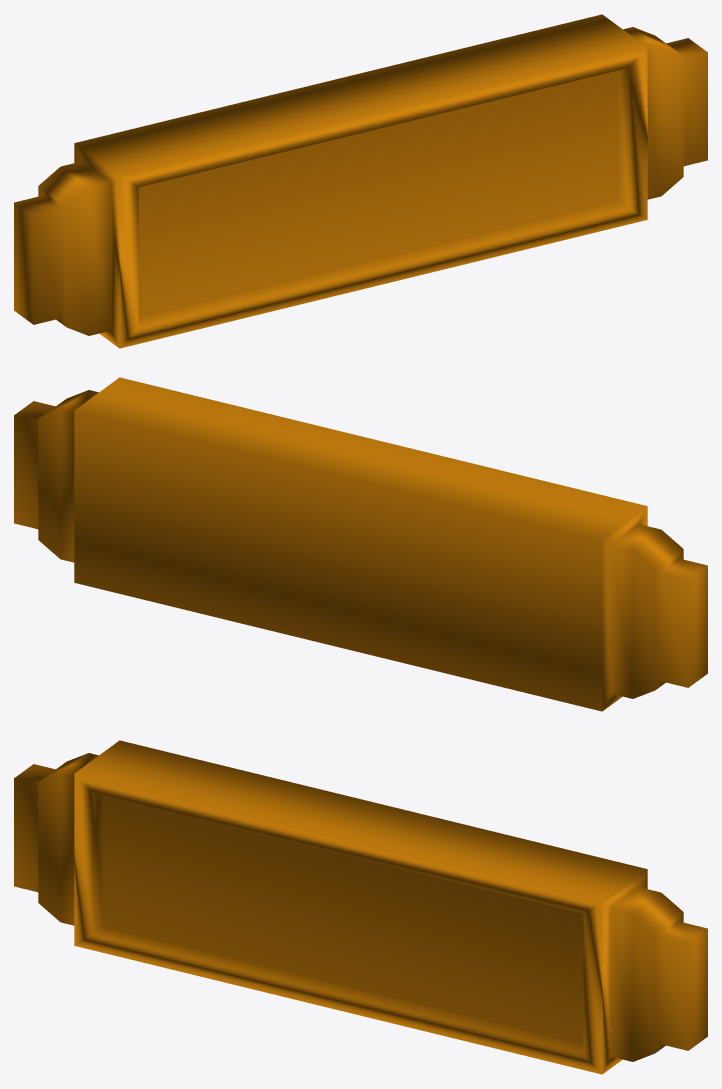
Rendered from button_3.fbx.
The picture shows the model from 3 angles, top to bottom: view 1: azimuth 30°, elevation 25°; view 2: azimuth 150°, elevation 25°; view 3: azimuth 330°, elevation 25°; orthographic projection.
Visible parts, largest first — view 1: B3_Low; view 2: B3_Low; view 3: B3_Low.
Part boxes in pixels (x1=…): B3_Low: x1=14, y1=14, x2=707, y2=348; B3_Low: x1=14, y1=377, x2=707, y2=711; B3_Low: x1=14, y1=740, x2=707, y2=1074.
Bounding box in the file's own units: 627 × 153 × 73.28.
